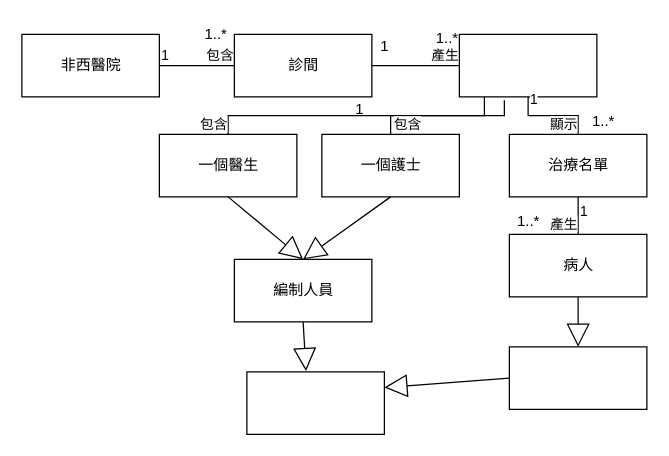
The diagram is 669 pixels wide and 456 high, and some of its shapes have lost their labels. The box of each missing label's shape, as (x1, y1, x2, y2) in pixels:
人員名單: (246, 371, 384, 434)
時段: (458, 33, 597, 97)
非編制人員: (508, 346, 647, 409)
